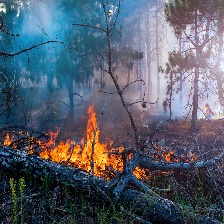fire: (5, 115, 203, 181)
smoke: (109, 7, 208, 111), (25, 4, 78, 99)
